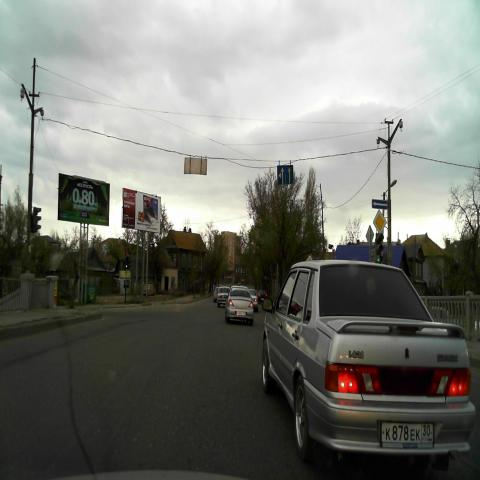5_7_2: (372, 199, 388, 210)
